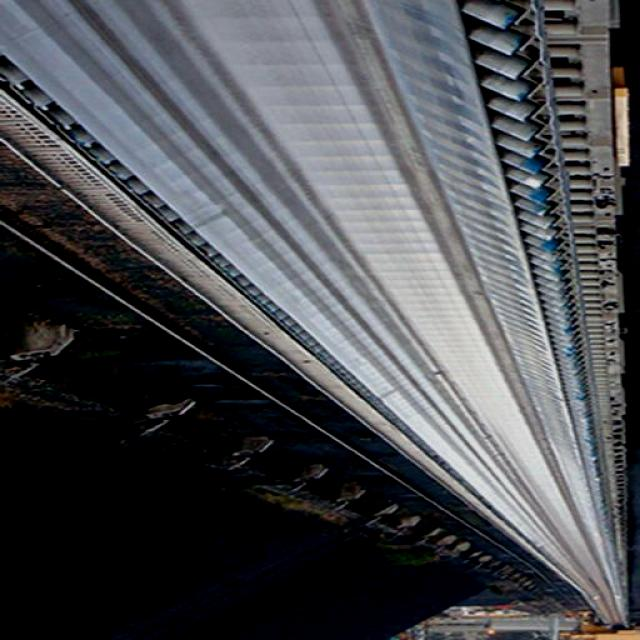conveyor: (0, 0, 630, 628)
